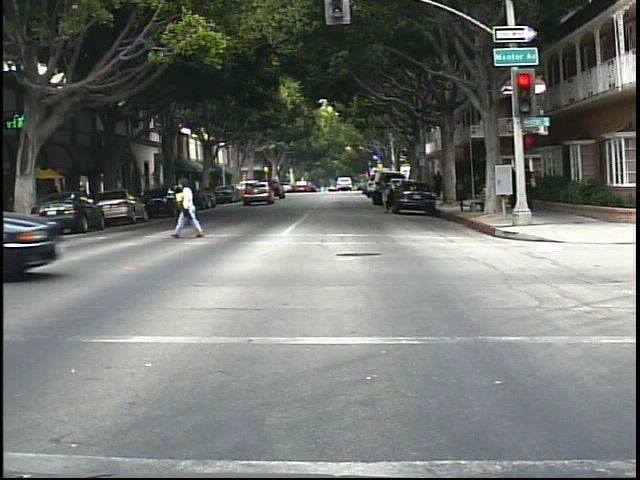person: (170, 176, 207, 244), (373, 171, 399, 216), (434, 167, 448, 199)
